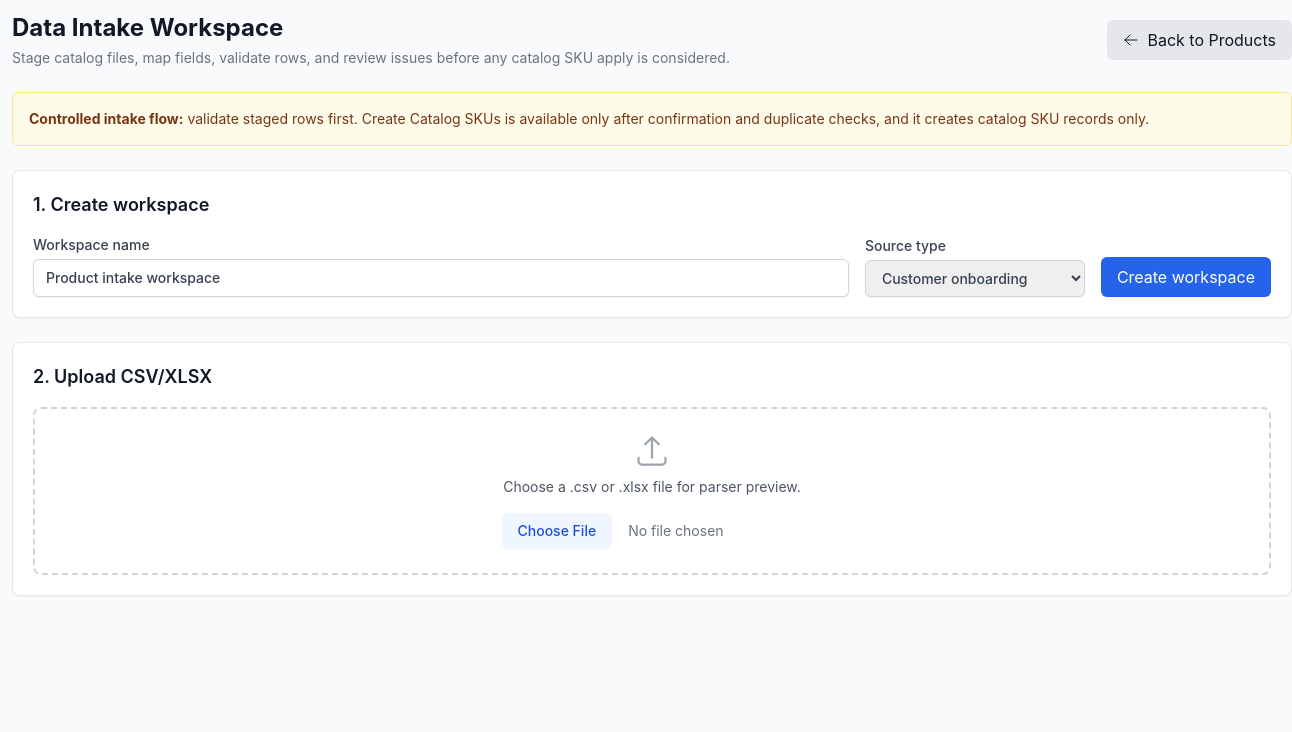
it: DataIntakePage › shows a friendly permission message for 403 responses
What coordinates should you click on to do the following:
click the button "Create workspace"
I would click on:
 (1186, 277)
Its box is [1101, 257, 1271, 297].
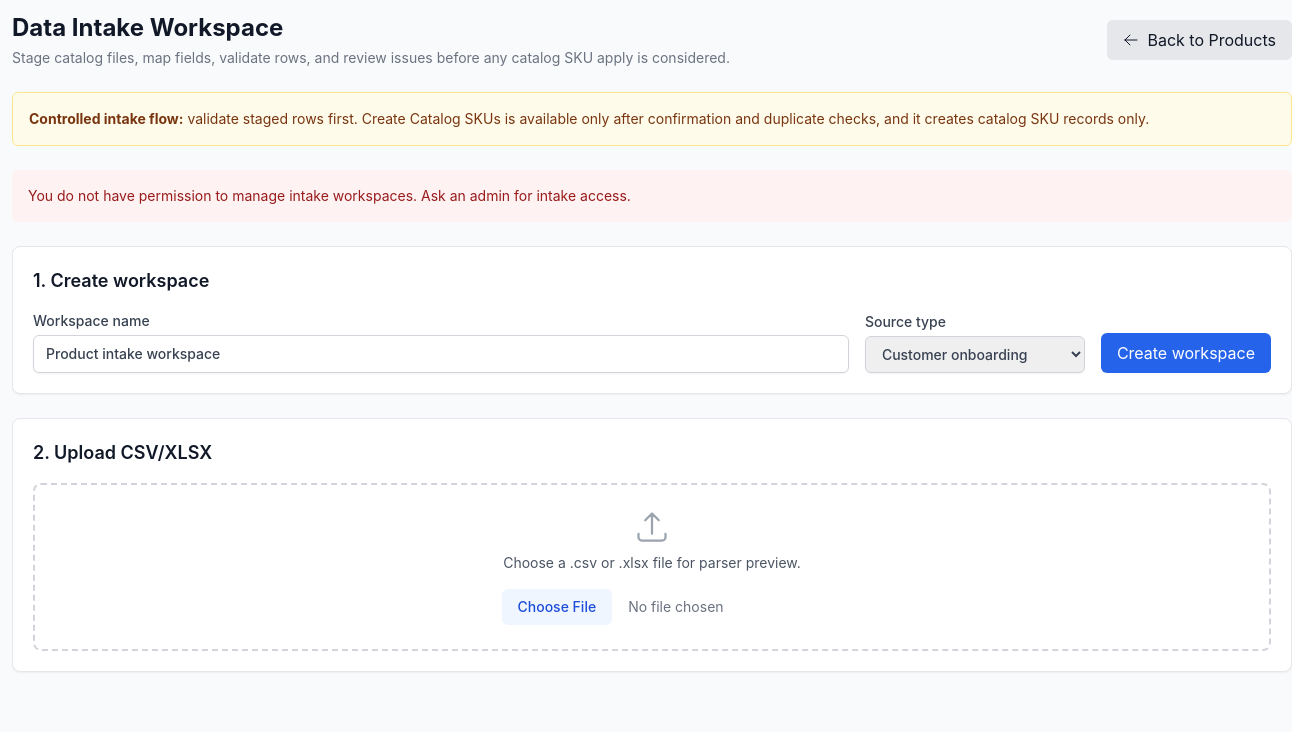
Expected: the text "ask an admin for intake access" is shown, [28, 187, 631, 204]
